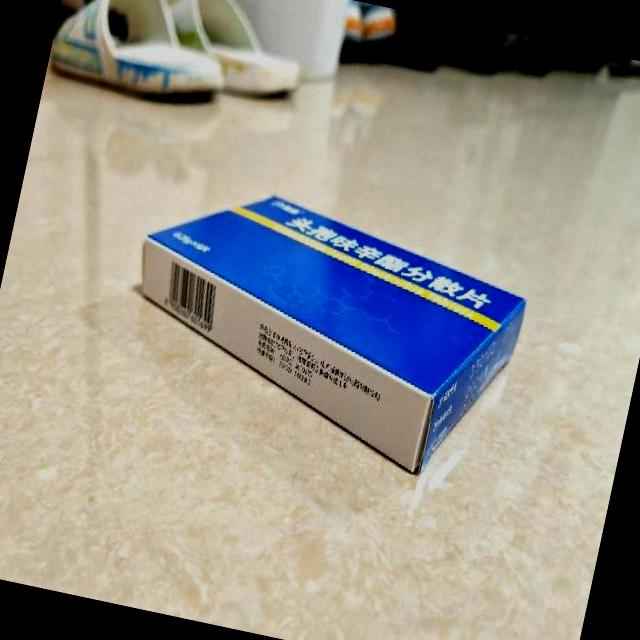box: (109, 170, 537, 488)
